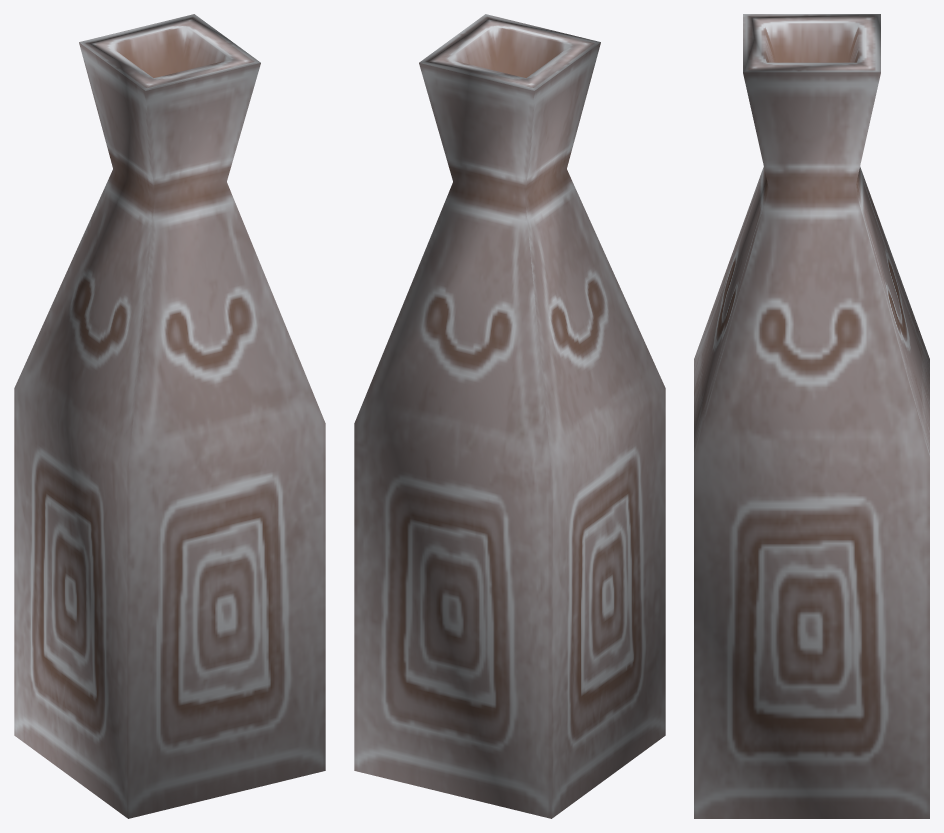
File: Asset_Vase_B_01.fbx
3 views of the same model, side by side, from view 1: azimuth 30°, elevation 25°; view 2: azimuth 150°, elevation 25°; view 3: azimuth 270°, elevation 25° (orthographic). The views are drawn at different scales.
Parts seen in each view (by area): view 1: Asset_Vase_B_01; view 2: Asset_Vase_B_01; view 3: Asset_Vase_B_01.
Part boxes in pixels (box(x1,y1,x2,y2)): Asset_Vase_B_01: box(14, 14, 325, 818); Asset_Vase_B_01: box(354, 14, 665, 818); Asset_Vase_B_01: box(694, 14, 929, 818).
Size of the model in its own units: 304 by 1030 by 304.
